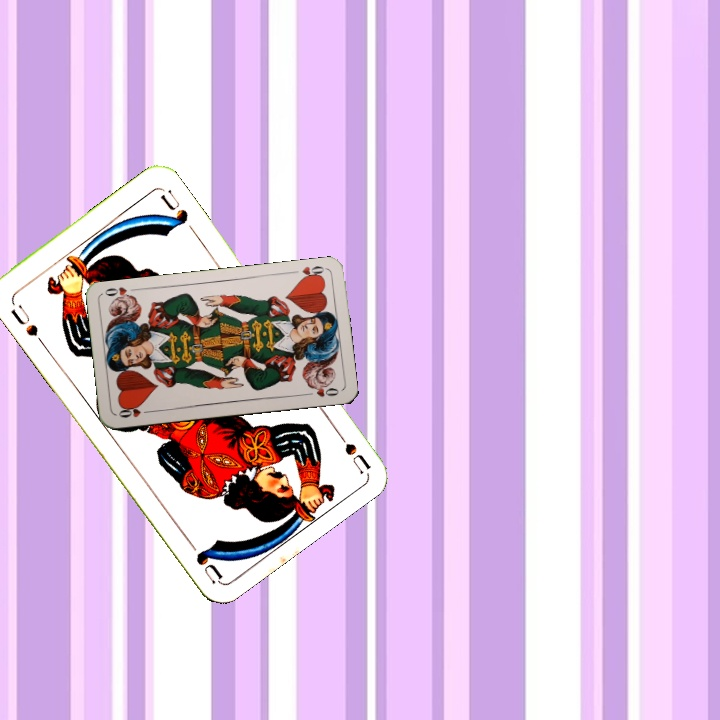HO: (288, 262, 328, 282), (114, 402, 154, 420)
SU: (328, 422, 373, 475), (6, 300, 47, 348)
